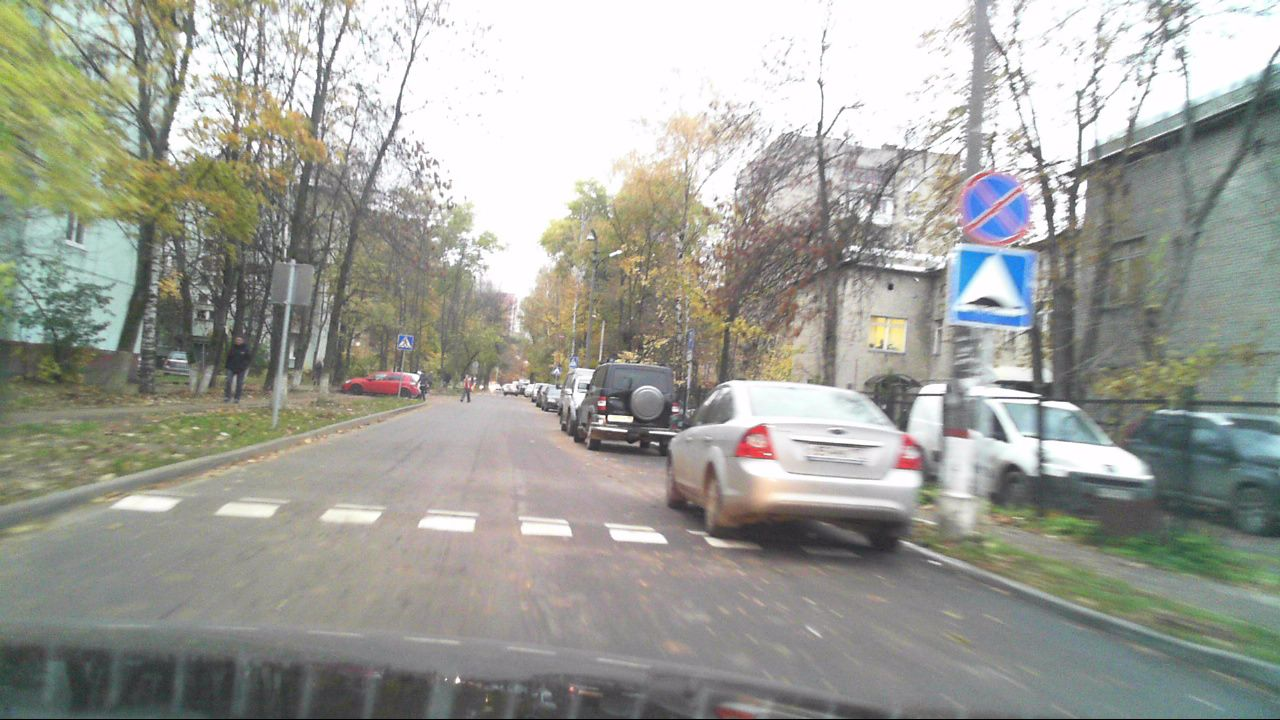No Parking: (960, 170, 1026, 246)
